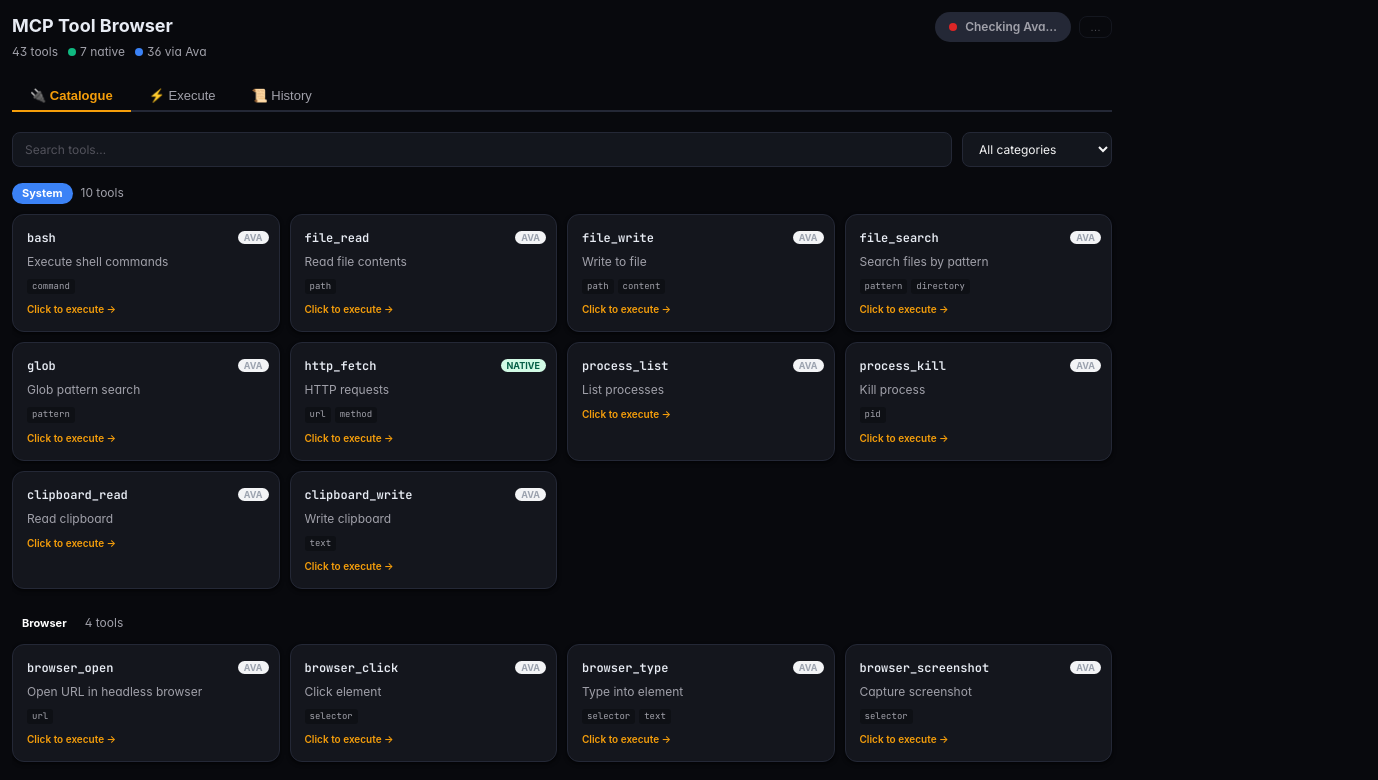
Scenario: MCPToolsPage › restoring the search shows tools again
Type "zzz-no-such-tool-zzz" into the search field with placeholder "Search tools…".
click(482, 150); type("zzz-no-such-tool-zzz")  # box [12, 132, 952, 167]
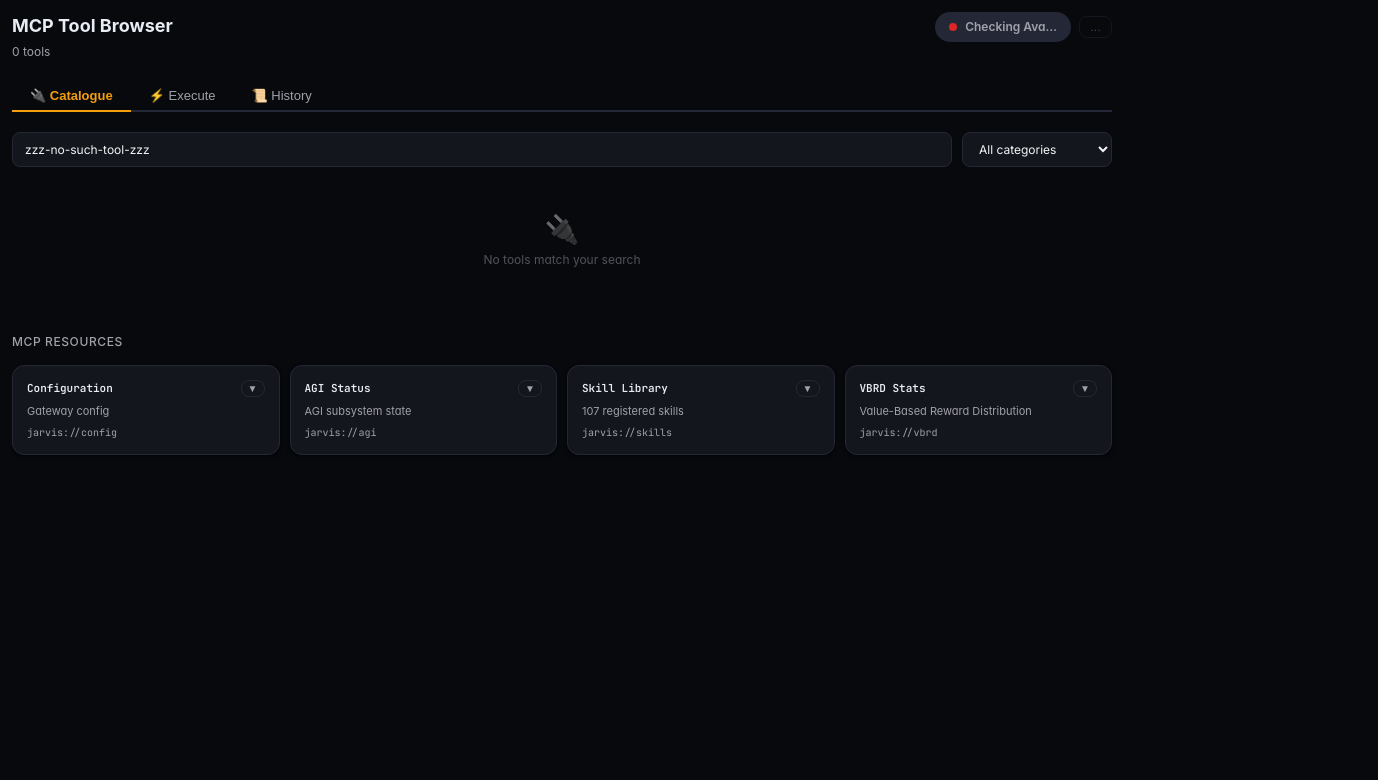
Expected: the text "No tools match your search" is shown, [484, 251, 641, 269]
Clear the search field with placeholder "Search tools…" at (482, 150), box [12, 132, 952, 167]
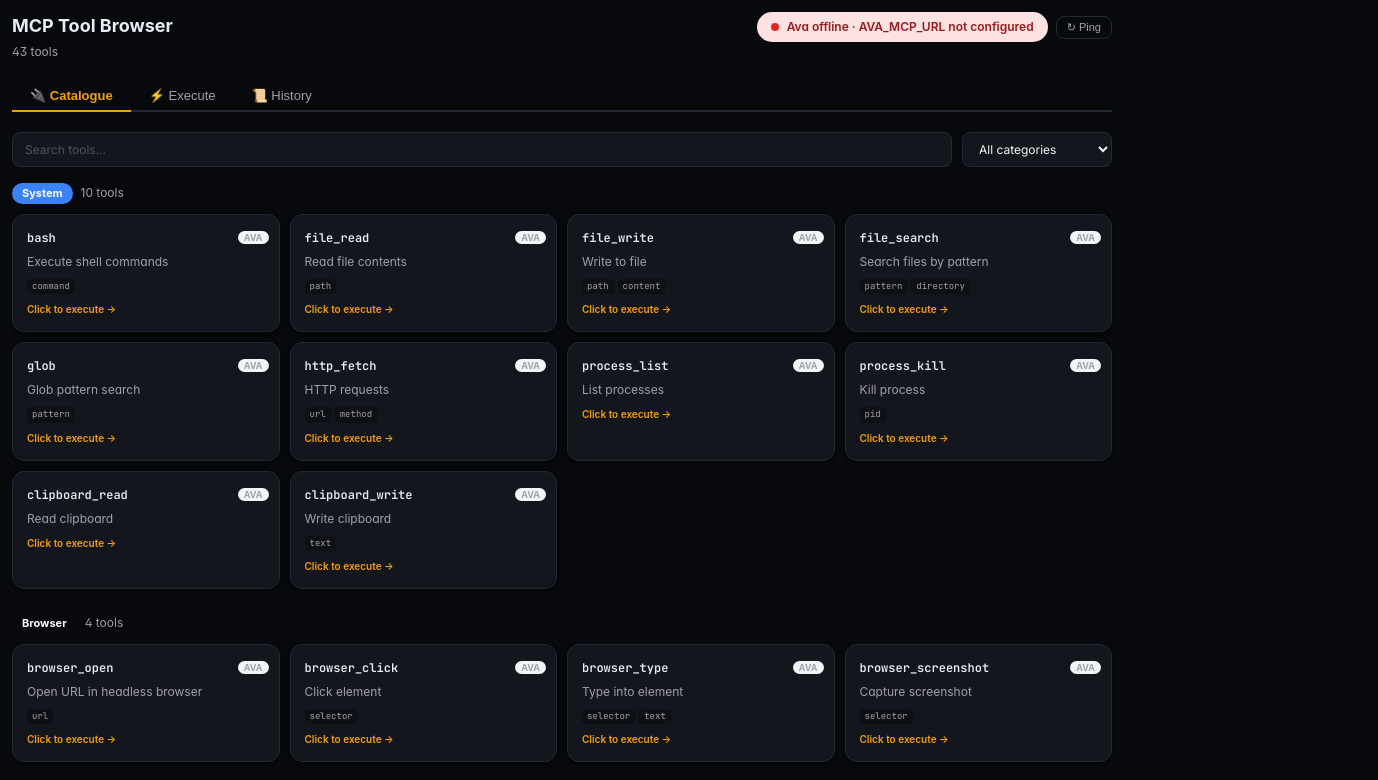
Expected: the text "No tools match your search" is gone
